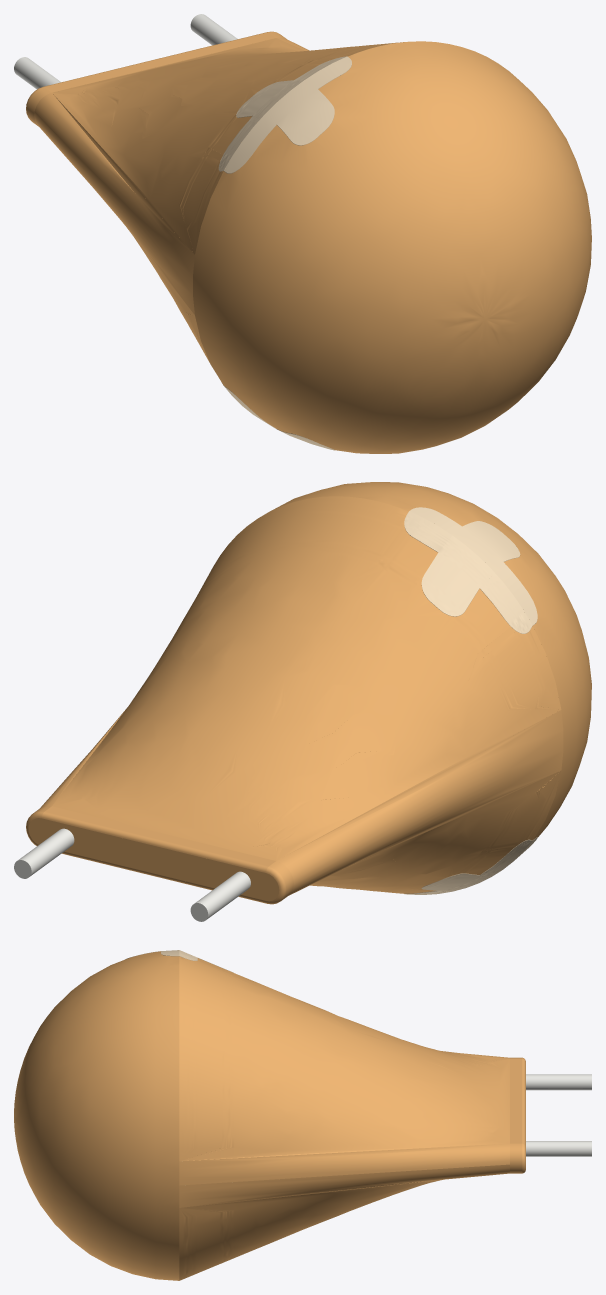
Rendered from CP_Radial_Tantal_D10.5mm_P5.00mm.glb.
3 renders of one model, top to bottom at view 1: azimuth 30°, elevation 25°; view 2: azimuth 150°, elevation 25°; view 3: azimuth 270°, elevation 25°, orthographic. The views are drawn at different scales.
Visible parts, largest first — view 1: Shape_IndexedFaceSet.022, Shape_IndexedFaceSet.023, Shape_IndexedFaceSet.038, Shape_IndexedFaceSet.001, Shape_IndexedFaceSet, Shape_IndexedFaceSet.039, Shape_IndexedFaceSet.060, Shape_IndexedFaceSet.059, Shape_IndexedFaceSet.026; view 2: Shape_IndexedFaceSet.023, Shape_IndexedFaceSet.038, Shape_IndexedFaceSet.022, Shape_IndexedFaceSet.026, Shape_IndexedFaceSet.058, Shape_IndexedFaceSet, Shape_IndexedFaceSet.001, Shape_IndexedFaceSet.039, Shape_IndexedFaceSet.054, Shape_IndexedFaceSet.051, Shape_IndexedFaceSet.059, Shape_IndexedFaceSet.060 (+1 smaller); view 3: Shape_IndexedFaceSet.023, Shape_IndexedFaceSet.022, Shape_IndexedFaceSet.026, Shape_IndexedFaceSet.024, Shape_IndexedFaceSet.025, Shape_IndexedFaceSet.060, Shape_IndexedFaceSet.059, Shape_IndexedFaceSet.039.
Boxes of the visible parts, x1,y1,x2,y2 form: Shape_IndexedFaceSet.022: [193, 41, 591, 453]; Shape_IndexedFaceSet.023: [52, 38, 403, 254]; Shape_IndexedFaceSet.038: [34, 93, 194, 314]; Shape_IndexedFaceSet.001: [224, 56, 351, 173]; Shape_IndexedFaceSet: [218, 56, 346, 171]; Shape_IndexedFaceSet.039: [44, 32, 275, 92]; Shape_IndexedFaceSet.060: [14, 57, 60, 89]; Shape_IndexedFaceSet.059: [190, 14, 237, 45]; Shape_IndexedFaceSet.026: [128, 142, 310, 362]; Shape_IndexedFaceSet.023: [52, 496, 561, 860]; Shape_IndexedFaceSet.038: [277, 710, 563, 895]; Shape_IndexedFaceSet.022: [271, 482, 591, 839]; Shape_IndexedFaceSet.026: [310, 770, 561, 893]; Shape_IndexedFaceSet.058: [28, 818, 279, 901]; Shape_IndexedFaceSet: [404, 511, 532, 633]; Shape_IndexedFaceSet.001: [409, 507, 537, 624]; Shape_IndexedFaceSet.039: [44, 806, 275, 866]; Shape_IndexedFaceSet.054: [42, 812, 267, 872]; Shape_IndexedFaceSet.051: [404, 840, 532, 894]; Shape_IndexedFaceSet.059: [18, 828, 74, 876]; Shape_IndexedFaceSet.060: [195, 871, 250, 919]; Shape_IndexedFaceSet.023: [179, 956, 509, 1161]; Shape_IndexedFaceSet.022: [14, 951, 179, 1280]; Shape_IndexedFaceSet.026: [179, 1179, 442, 1280]; Shape_IndexedFaceSet.024: [179, 1143, 509, 1185]; Shape_IndexedFaceSet.025: [179, 1164, 509, 1207]; Shape_IndexedFaceSet.060: [526, 1074, 591, 1090]; Shape_IndexedFaceSet.059: [526, 1141, 591, 1156]; Shape_IndexedFaceSet.039: [510, 1059, 521, 1143].
Size of the model in its own units: 4.13 by 4.13 by 7.22.
